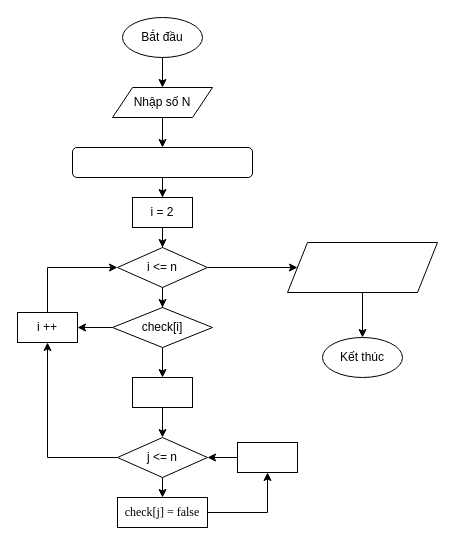
Image size: 455x545. Some labels were removed from this diagram. The centre of each missing label's shape, as x and y in pixels:
"bool *check[1...n+1] = true;" belongs at [162,162].
"In ra tất cả số i với check[i] = true" belongs at [362,267].
"j += i" belongs at [267,457].
"j = 2*i" belongs at [162,392].
